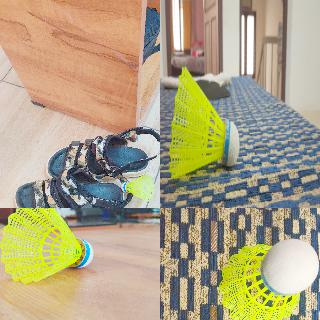shuttlecock: (218, 239, 319, 319), (169, 66, 239, 178), (0, 208, 93, 284), (120, 175, 154, 201)
